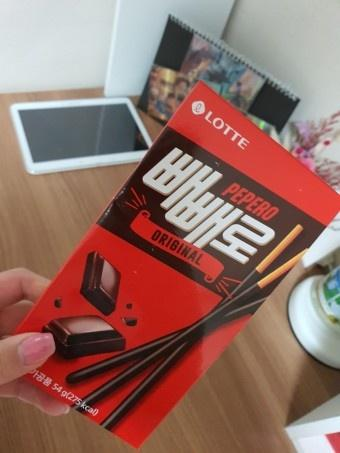snack: (17, 79, 340, 451)
